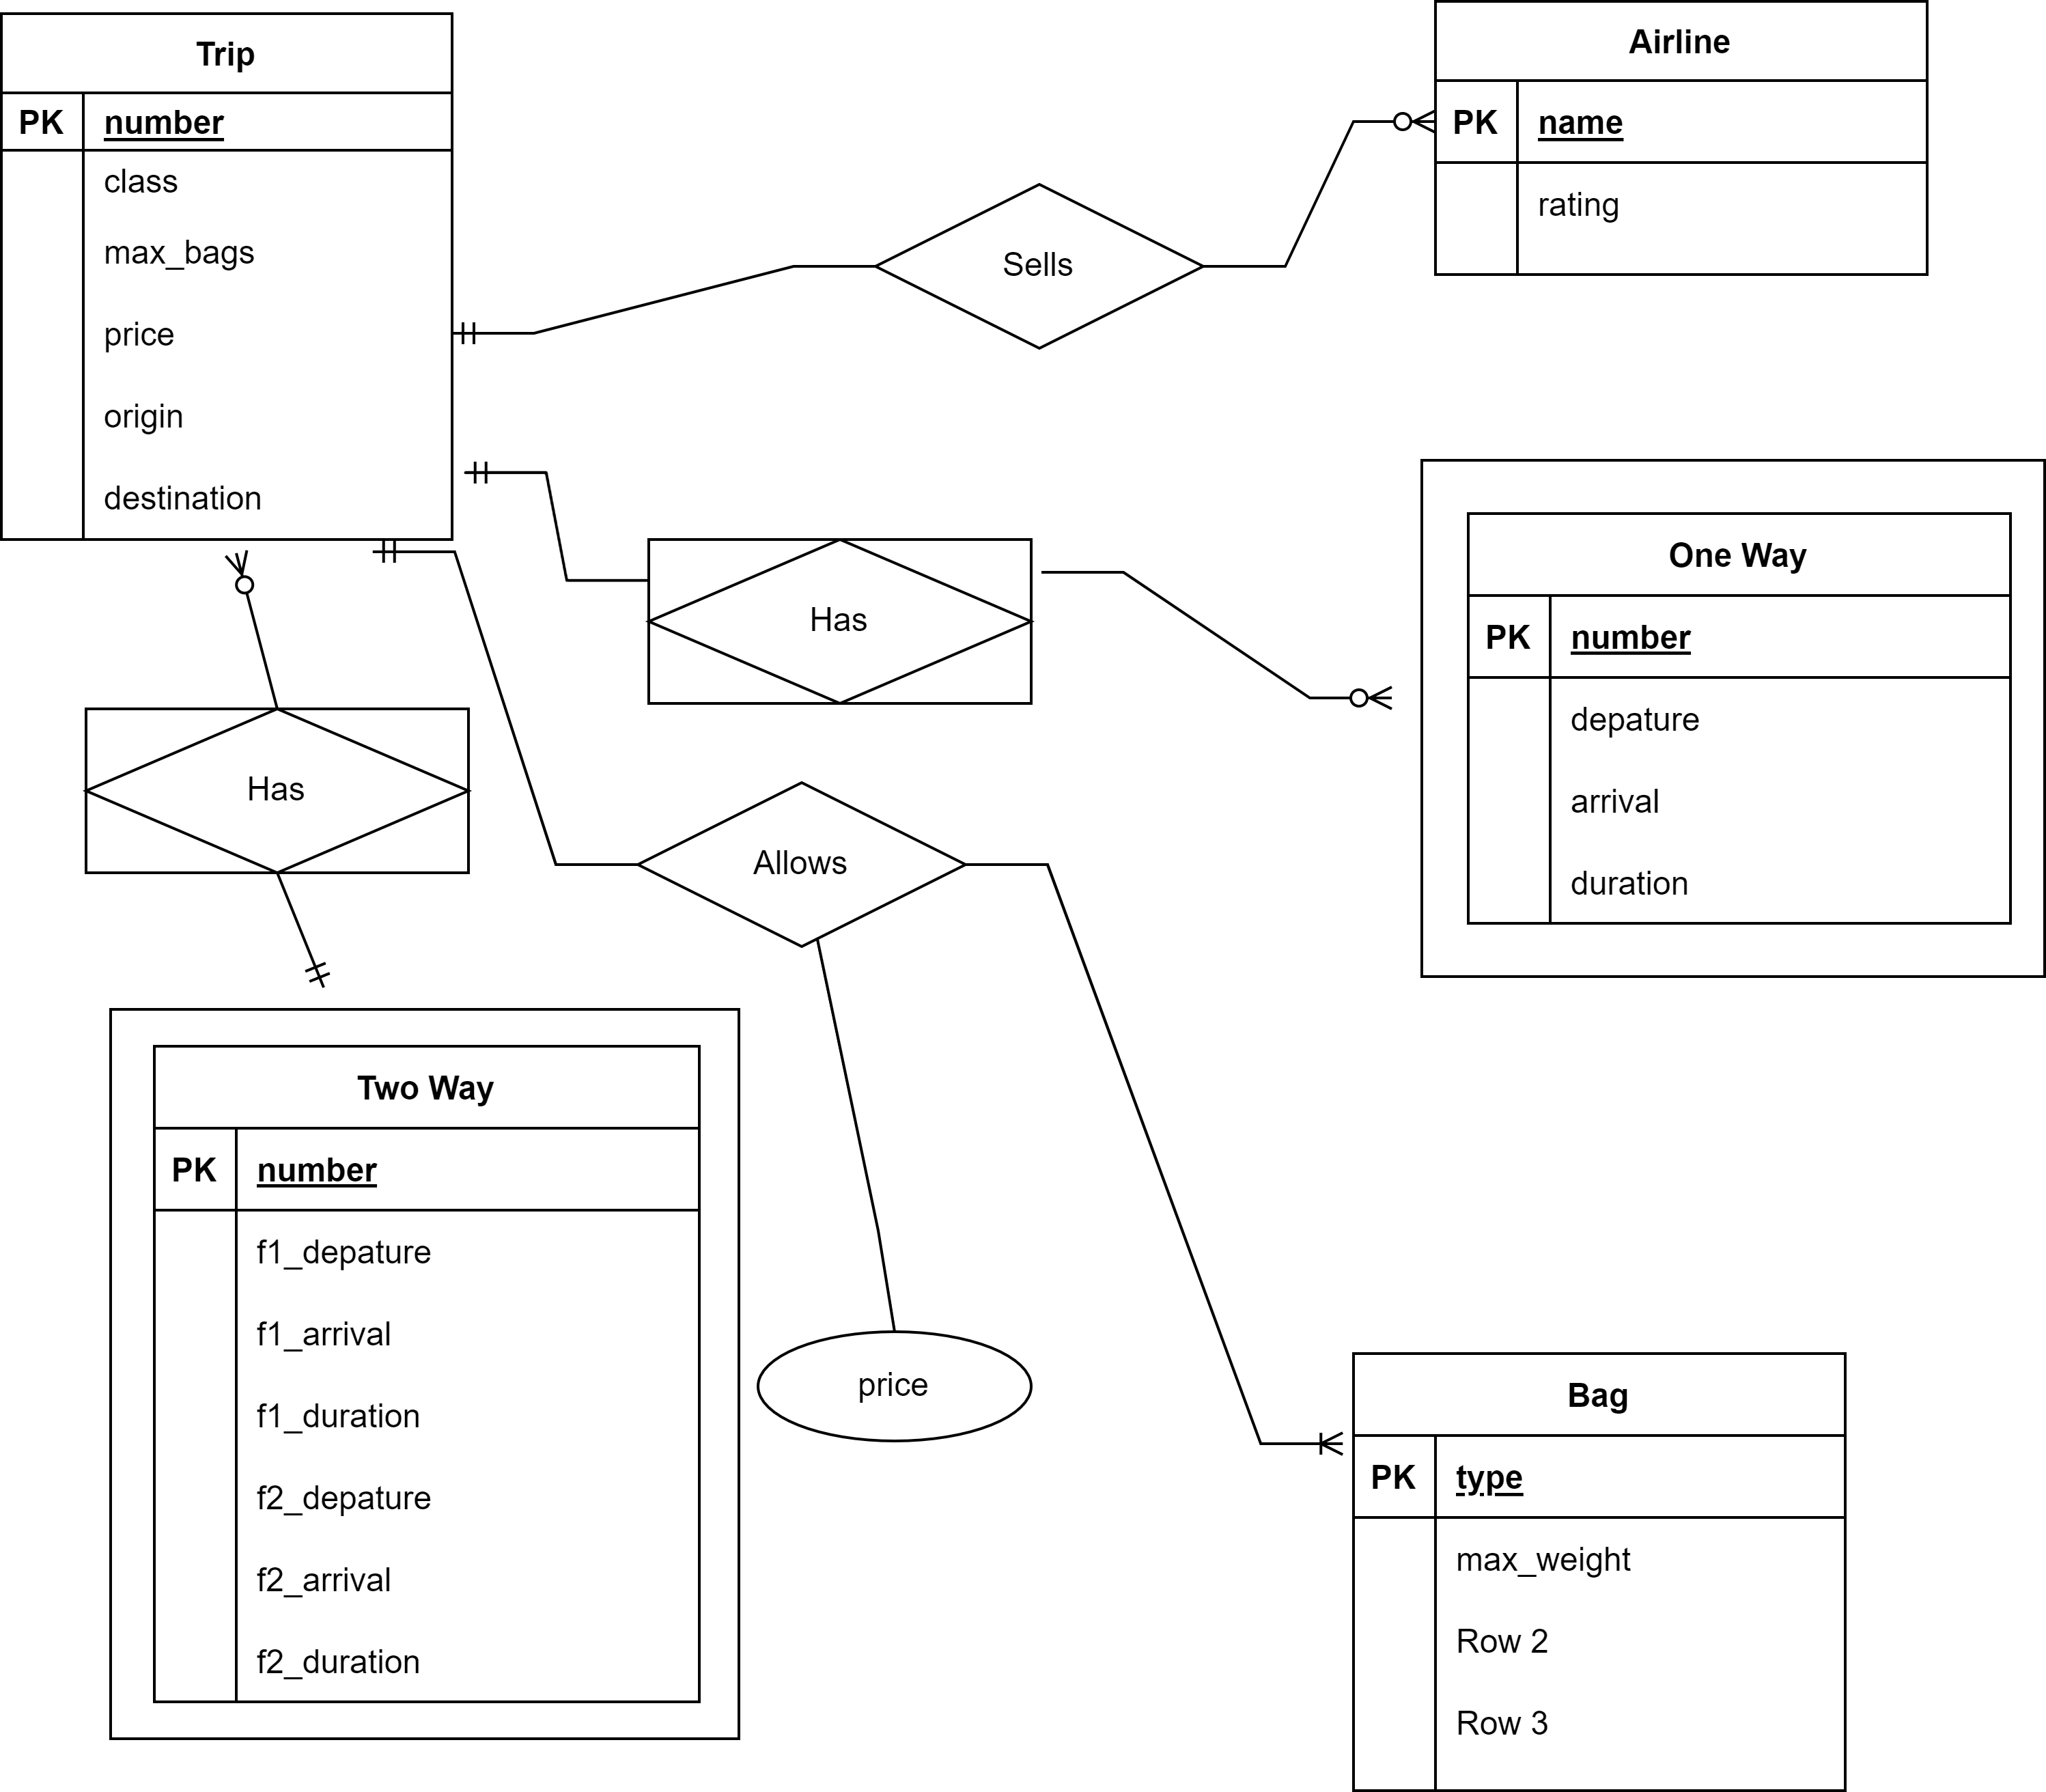entity: (0, 14, 451, 543), (1350, 1350, 1846, 1789), (1439, 3, 1928, 273)
ident_rel: (87, 705, 468, 875), (652, 536, 1032, 706)
many: (1303, 656, 1409, 727), (195, 546, 292, 611), (1260, 1416, 1361, 1474), (1345, 96, 1434, 157)
one: (447, 449, 541, 508), (447, 304, 534, 367), (285, 931, 353, 997)
rel: (642, 778, 964, 950), (877, 181, 1207, 348)
rel_attr: (753, 1331, 1037, 1442)
weak_entity: (111, 1004, 741, 1738), (1416, 463, 2046, 980)
